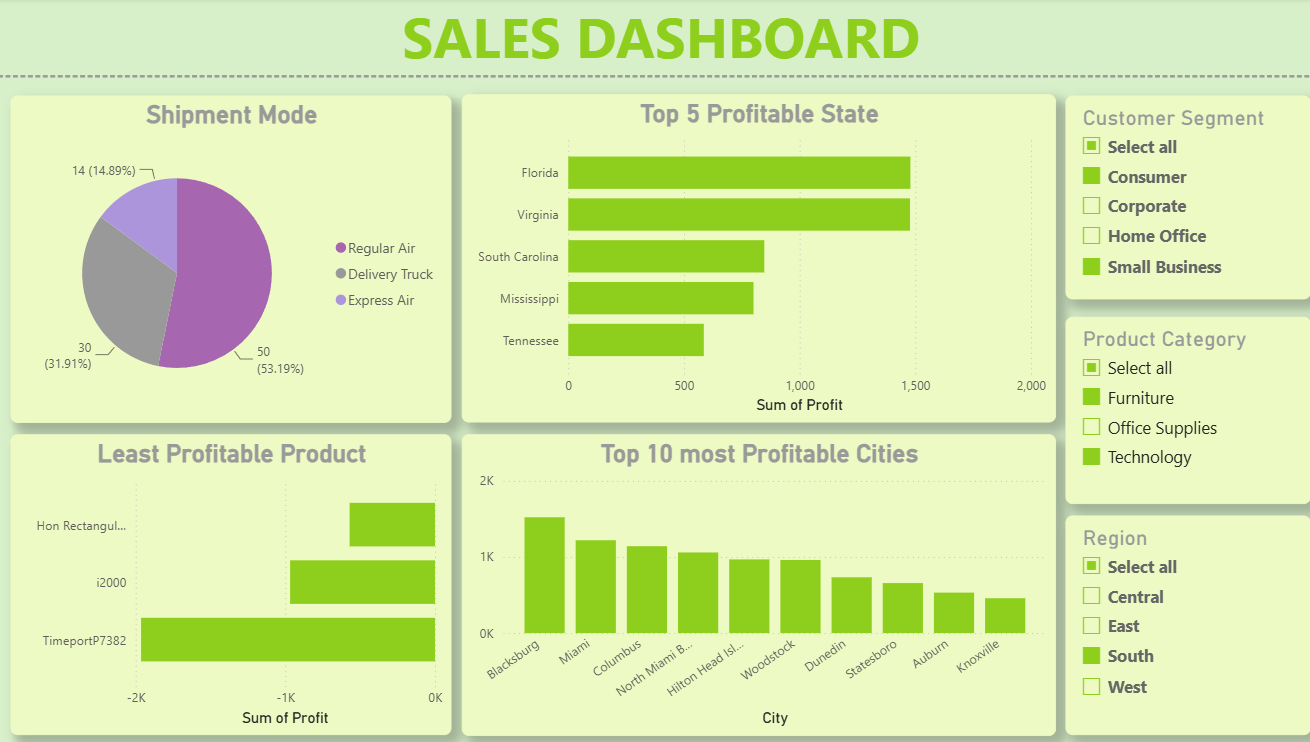

The dashboard page shown, as its layout file describes it:
{"tool":"powerbi","page":{"name":"Page 1","canvas":[1280,720],"ordinal":0},"visuals":[{"type":"textbox","title":"Sales Performance Dashboard","box":[0,0,1280.3,78.3],"z":0},{"type":"pieChart","title":"Shipment Mode","fields":{"Category":["Orders.Ship Mode"],"Y":["CountNonNull(Orders.Order ID)"]},"box":[12.1,94.1,425.9,316.1],"z":1000},{"type":"clusteredBarChart","title":"Top 5 Profitable State","fields":{"Category":["Orders.State or Province"],"Y":["Sum(Orders.Profit)"]},"box":[447.3,93.3,573.6,317],"z":2000},{"type":"clusteredBarChart","title":"Least Profitable Product","fields":{"Category":["Orders.Product Name"],"Y":["Sum(Orders.Profit)"]},"box":[12.1,421,425.9,290.8],"z":3000},{"type":"columnChart","title":"Top 10 most Profitable Cities","fields":{"Y":["Sum(Orders.Profit)"],"Category":["Orders.City"]},"box":[447.3,421.3,573.6,290.9],"z":4000},{"type":"slicer","fields":{"Values":["Orders.Customer Segment"]},"box":[1030.3,94.1,236.5,196.6],"z":5000},{"type":"slicer","fields":{"Values":["Orders.Product Category"]},"box":[1030.3,307.6,236.5,181],"z":6000},{"type":"slicer","fields":{"Values":["Orders.Region"]},"box":[1030.3,499.5,236.5,212.3],"z":7000}]}

Visuals, with their boxes in screenshot pixels (x1, y1, x2, y2), scaled from the page's 1280x720 canvas onto the 1310x742 screenshot:
"Sales Performance Dashboard" textbox: bbox(0, 0, 1309, 81)
"Shipment Mode" pieChart: bbox(12, 97, 448, 423)
"Top 5 Profitable State" clusteredBarChart: bbox(458, 96, 1045, 423)
"Least Profitable Product" clusteredBarChart: bbox(12, 434, 448, 734)
"Top 10 most Profitable Cities" columnChart: bbox(458, 434, 1045, 734)
slicer - Orders.Customer Segment: bbox(1054, 97, 1296, 300)
slicer - Orders.Product Category: bbox(1054, 317, 1296, 504)
slicer - Orders.Region: bbox(1054, 515, 1296, 734)
